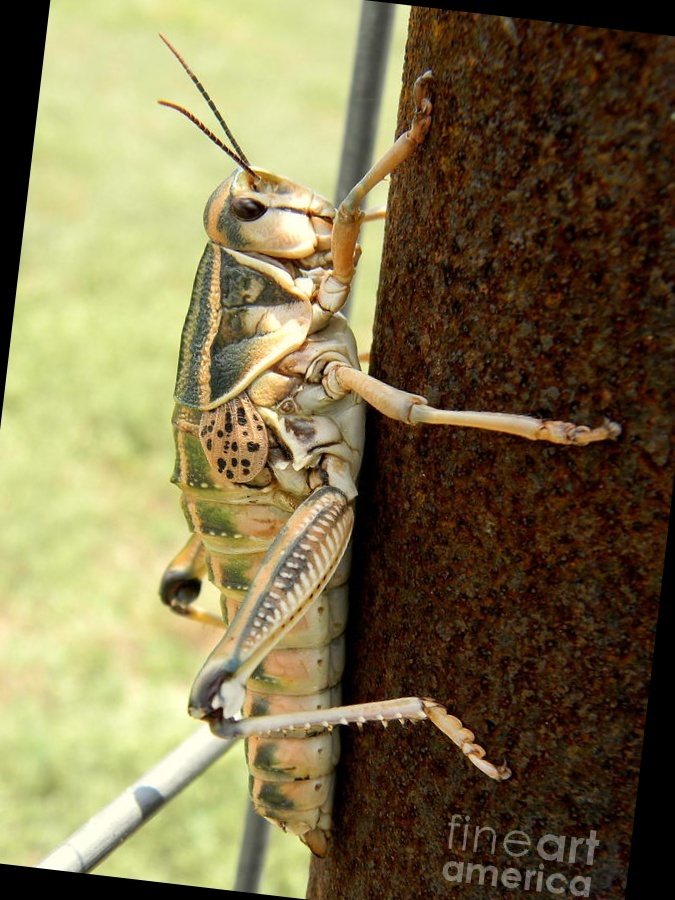Brown_hopper: (98, 90, 444, 838)
